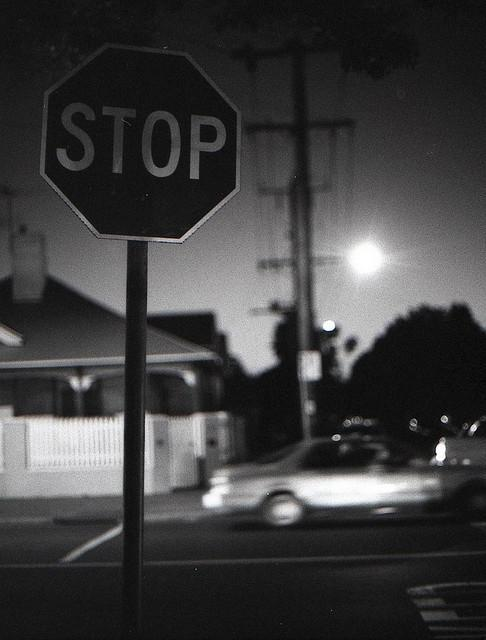car: (204, 433, 484, 525)
